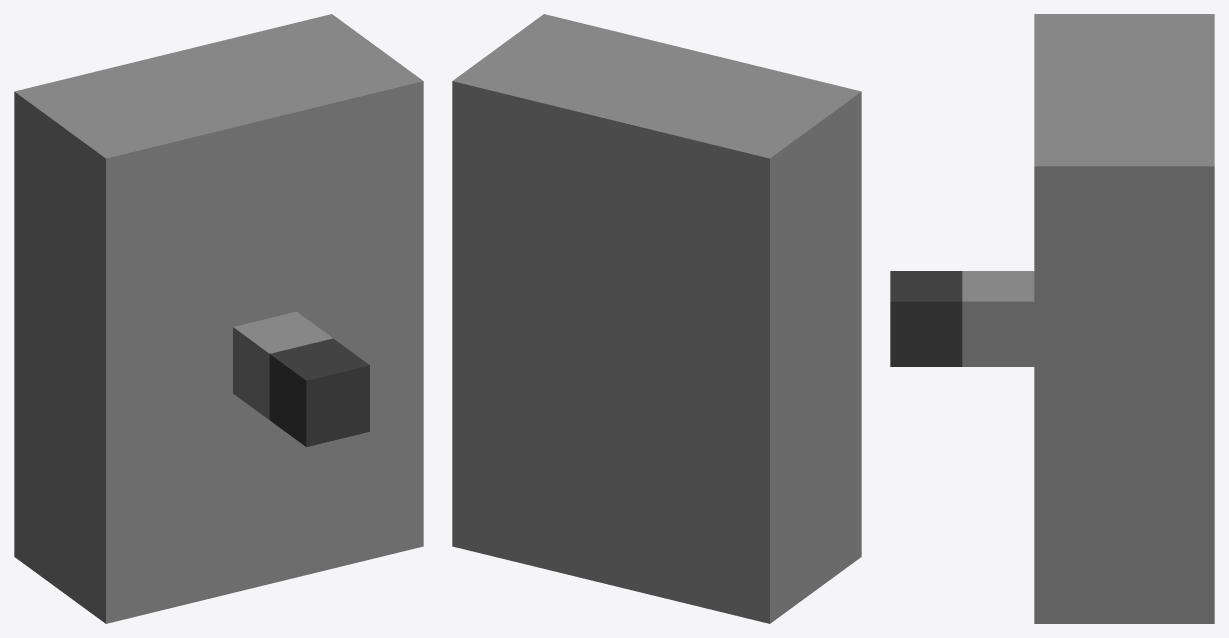
The model's file is bomb.obj.
The picture shows the model from 3 angles, left to right: view 1: azimuth 30°, elevation 25°; view 2: azimuth 150°, elevation 25°; view 3: azimuth 270°, elevation 25°; orthographic projection.
Size of the model in its own units: 10 by 14 by 9.
1 material, 1 textured.
